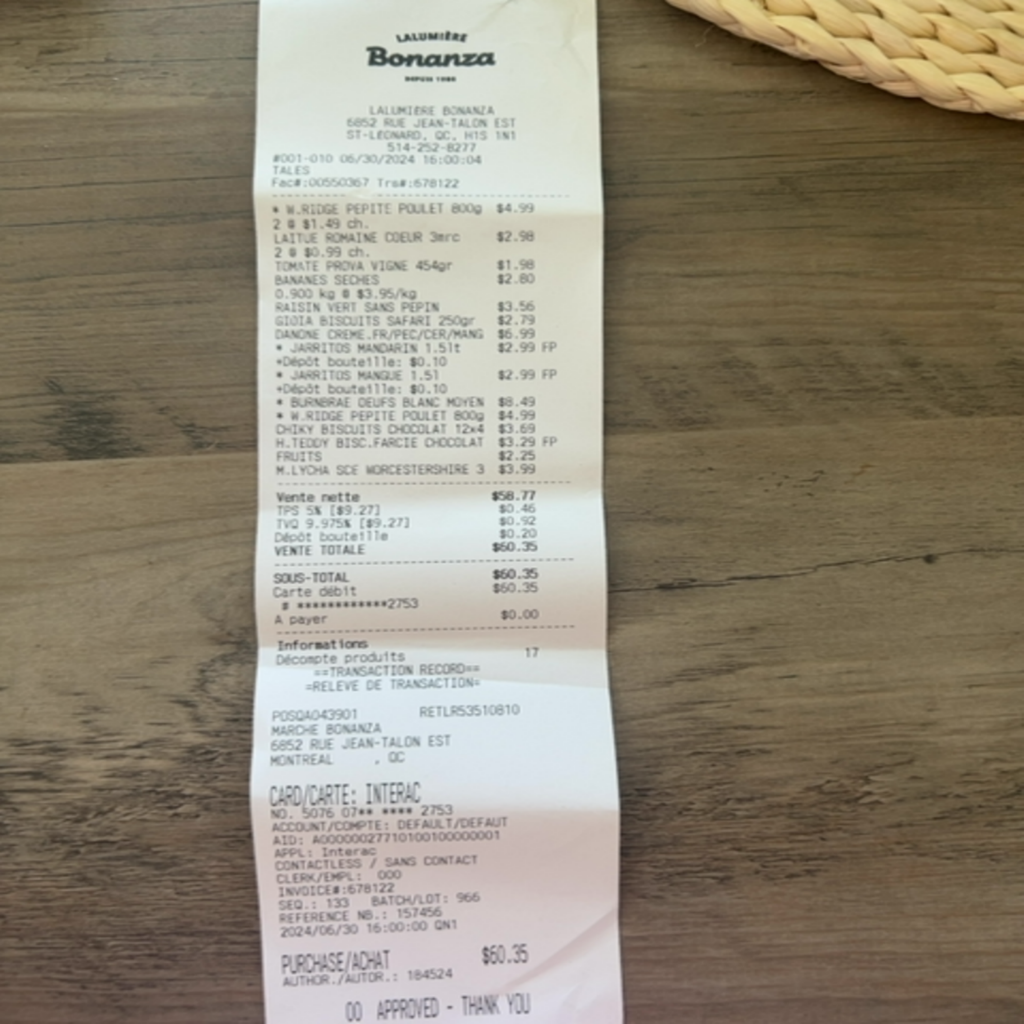recipt: (250, 0, 627, 1024)
